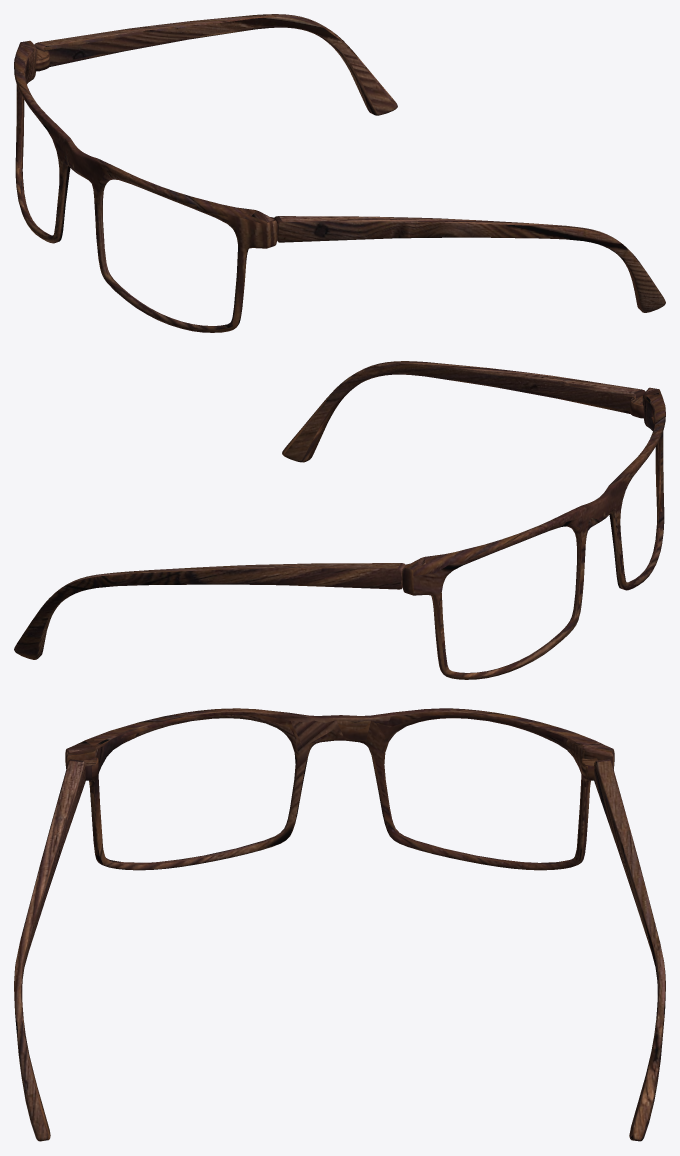
The model's file is joint.obj.
The picture shows the model from 3 angles, top to bottom: view 1: azimuth 30°, elevation 25°; view 2: azimuth 150°, elevation 25°; view 3: azimuth 270°, elevation 25°; orthographic projection. The views are drawn at different scales.
Parts seen in each view (by area): view 1: joint; view 2: joint; view 3: joint.
Boxes of the visible parts, <box> form: joint: <box>14,14,665,332</box>; joint: <box>14,361,665,679</box>; joint: <box>14,708,665,1141</box>.
Size of the model in its own units: 3.36 by 1.25 by 3.76.
